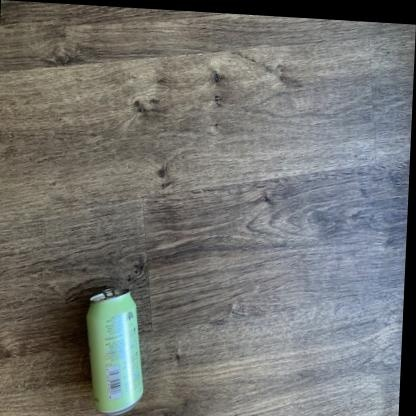trash: (87, 289, 142, 413)
